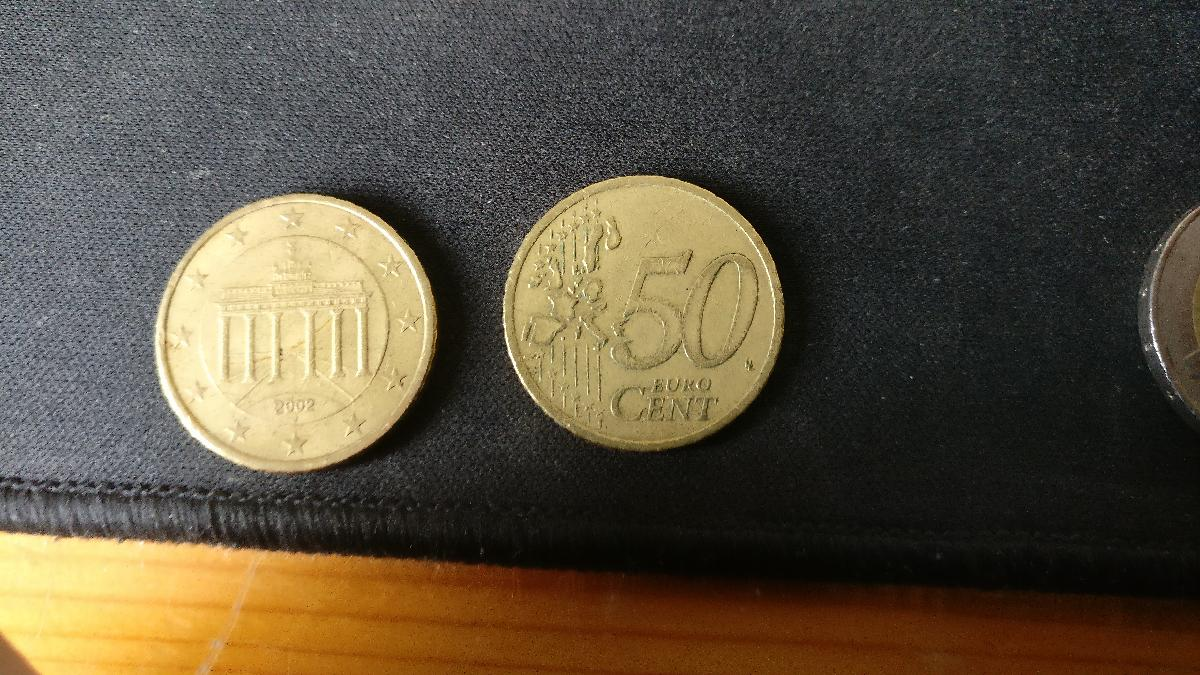Fifty Cent: (495, 172, 791, 453), (155, 194, 437, 477)
Two Euro: (1132, 195, 1200, 424)
